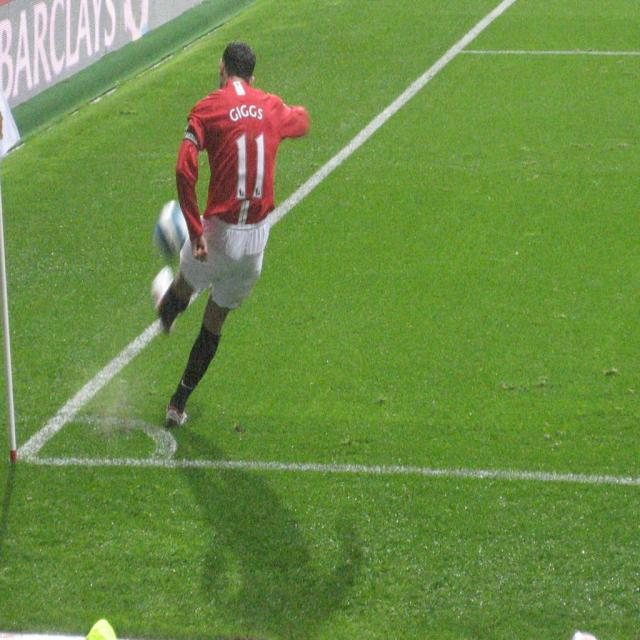Ball: (154, 200, 189, 254)
